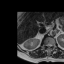CCS_normal: (48, 42, 49, 49)
LFS_normal: (51, 43, 53, 47)
LLS_normal: (49, 43, 51, 47)
RFS_stenosis: (44, 43, 46, 47)
RLS_normal: (46, 43, 48, 47)
